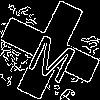M: (25, 25, 83, 85)
